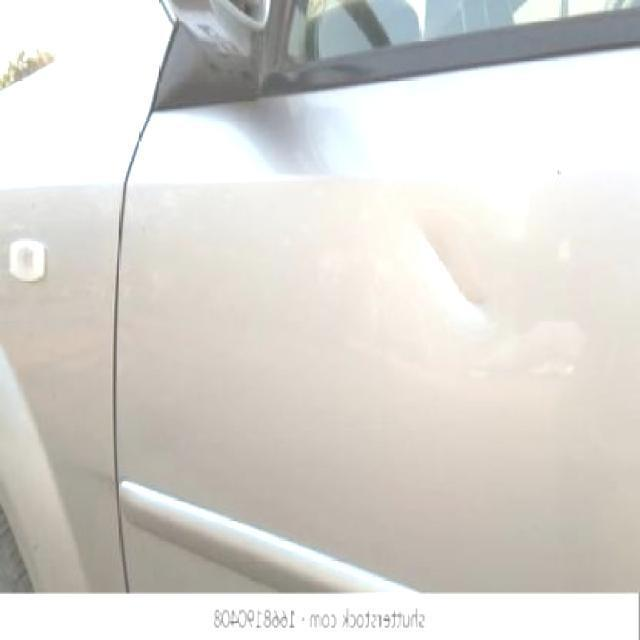minor: (414, 208, 500, 343)
